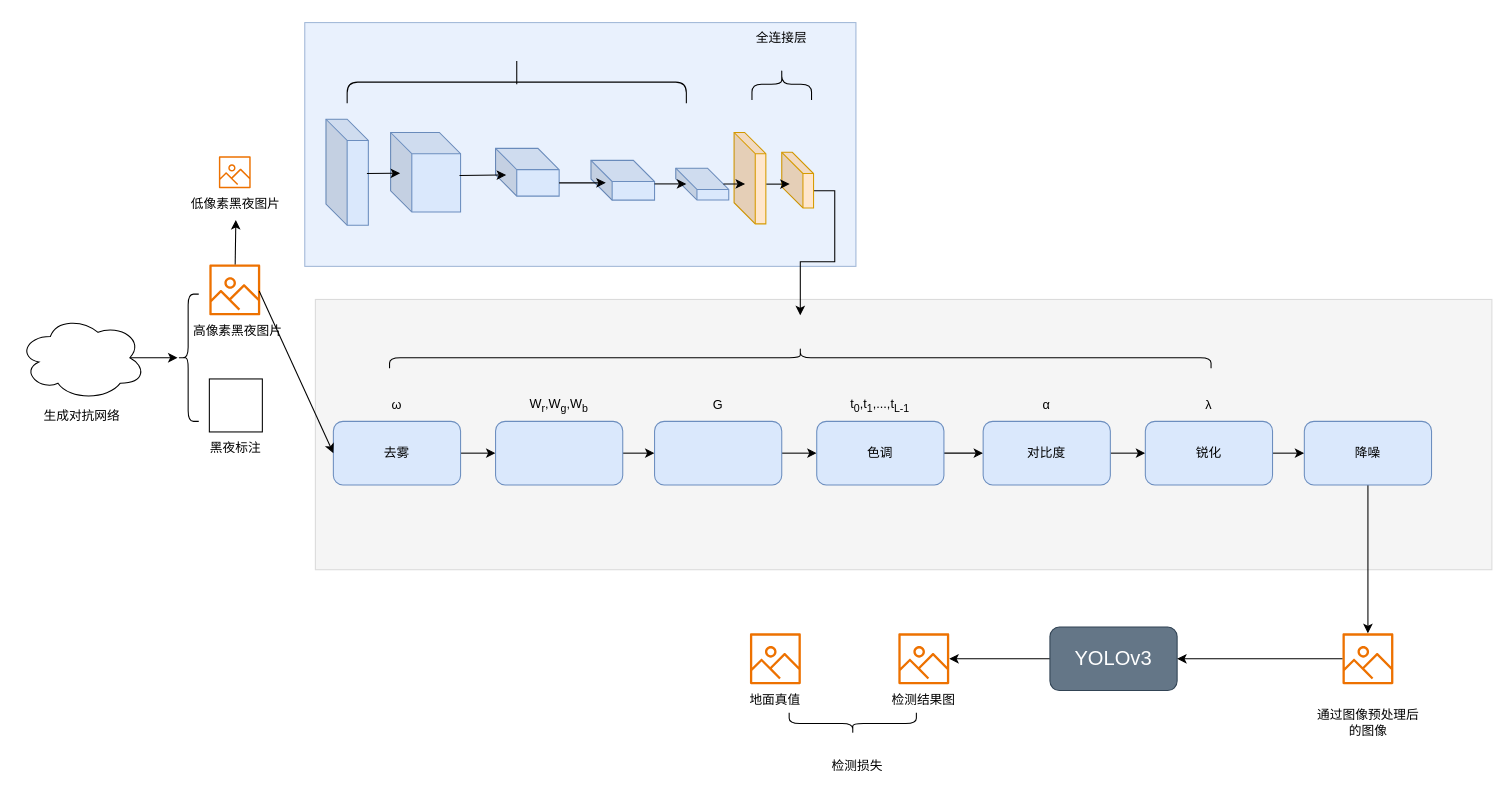
Image size: 1510x799. Some labels were removed from this diagram. Each missing label, with the centre of its shape:
"P N" belongs at [799,357].
"伽马" belongs at [717,452].
"卷积层" belongs at [516,92].
"白平衡" belongs at [558,452].
